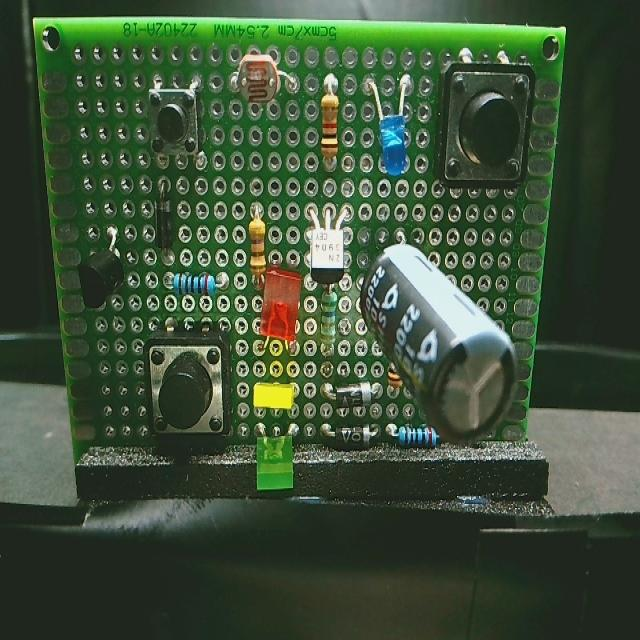Electrolytic capacitor: (352, 228, 522, 454)
cds: (222, 51, 304, 115)
diode: (152, 173, 182, 270), (316, 419, 384, 461), (317, 377, 383, 416)
led: (360, 70, 418, 187), (257, 268, 306, 362), (250, 419, 304, 496), (251, 376, 303, 416)
resistor: (318, 75, 346, 176), (157, 266, 234, 300), (316, 283, 342, 358), (246, 199, 266, 291), (386, 421, 438, 450), (382, 362, 406, 404)
switch: (431, 44, 538, 200), (142, 318, 236, 444), (146, 73, 211, 171)
transistor: (77, 227, 127, 316), (305, 201, 354, 287)
